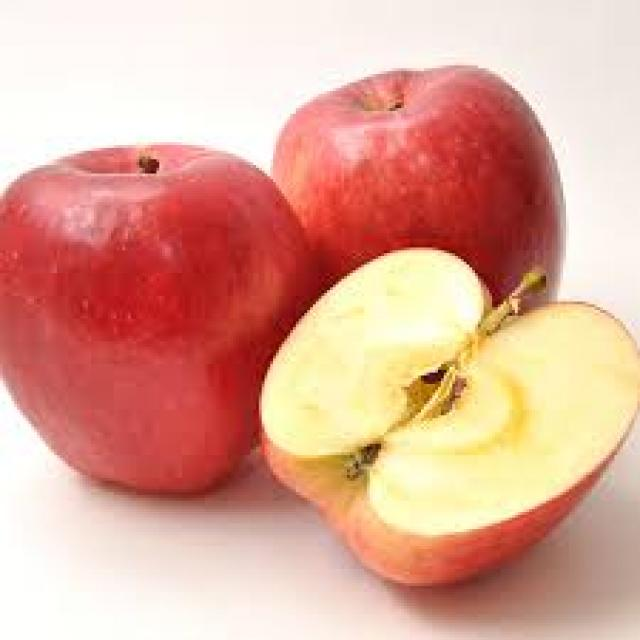organic waste: (250, 242, 637, 589), (0, 142, 310, 495), (267, 62, 564, 313)
